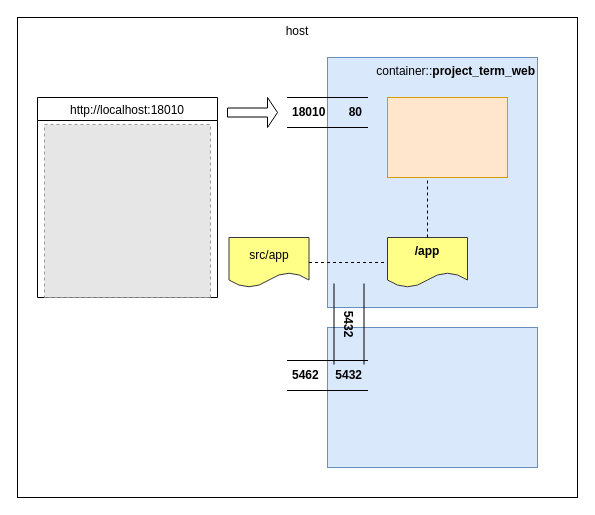
The diagram is 595 pixels wide and 515 high, and some of its shapes have lost their labels. Grey dashed boxes stand in for pictures. The box of each missing label's shape, as (x1, y1, x2, y2) in pixels:
container:: project_term_sql: (326, 326, 538, 468)
webserver::apache interpreter::php: (386, 96, 508, 178)
